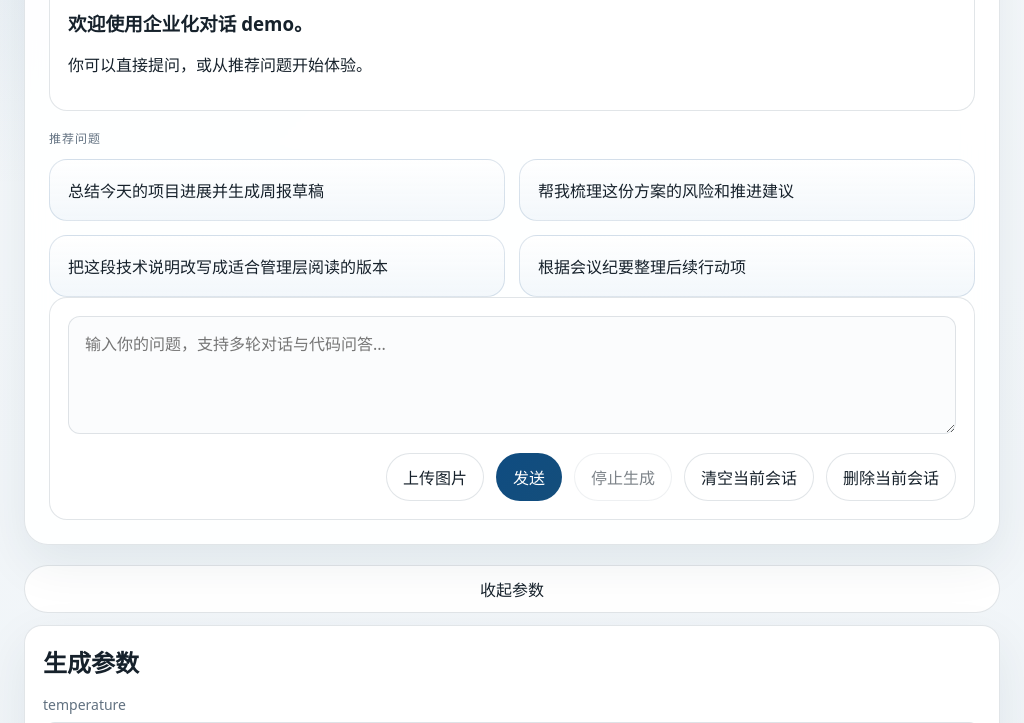
ChatShell › renders structured validation errors as readable text instead of object output
This screenshot has width=1024, height=723.
(page scrolled)
Type "你好" into the text box with placeholder "输入你的问题，支持多轮对话与代码问答...".
click(512, 375); type("你好")  # box [68,316,956,434]
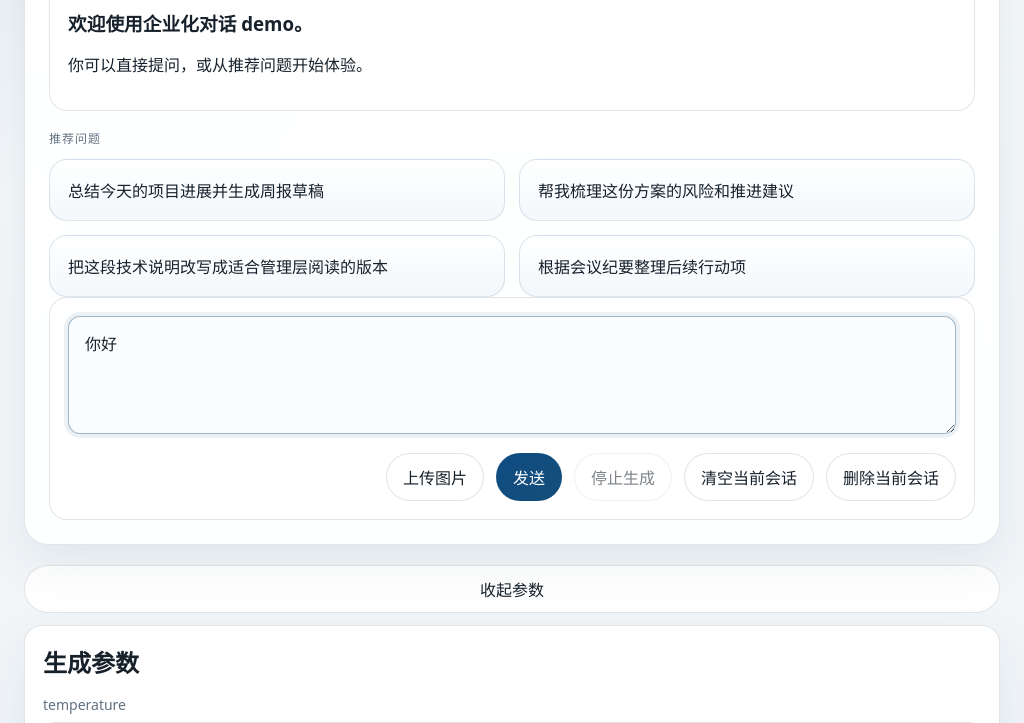
Click the button "发送".
click(529, 477)  # box [496,453,562,501]
(page scrolled)
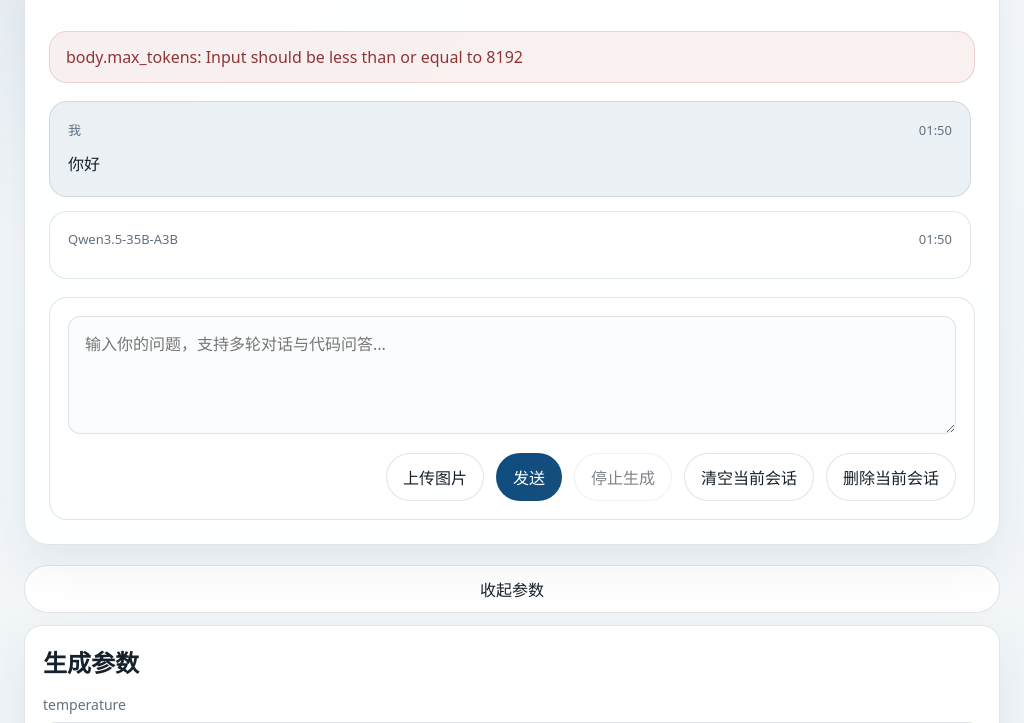
Expected: the text "body.max_tokens: Input should be less than or equal to 8192" is shown, [49,31,975,83]
